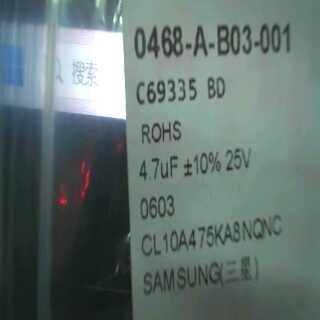4.7uF: (135, 152, 183, 181)
